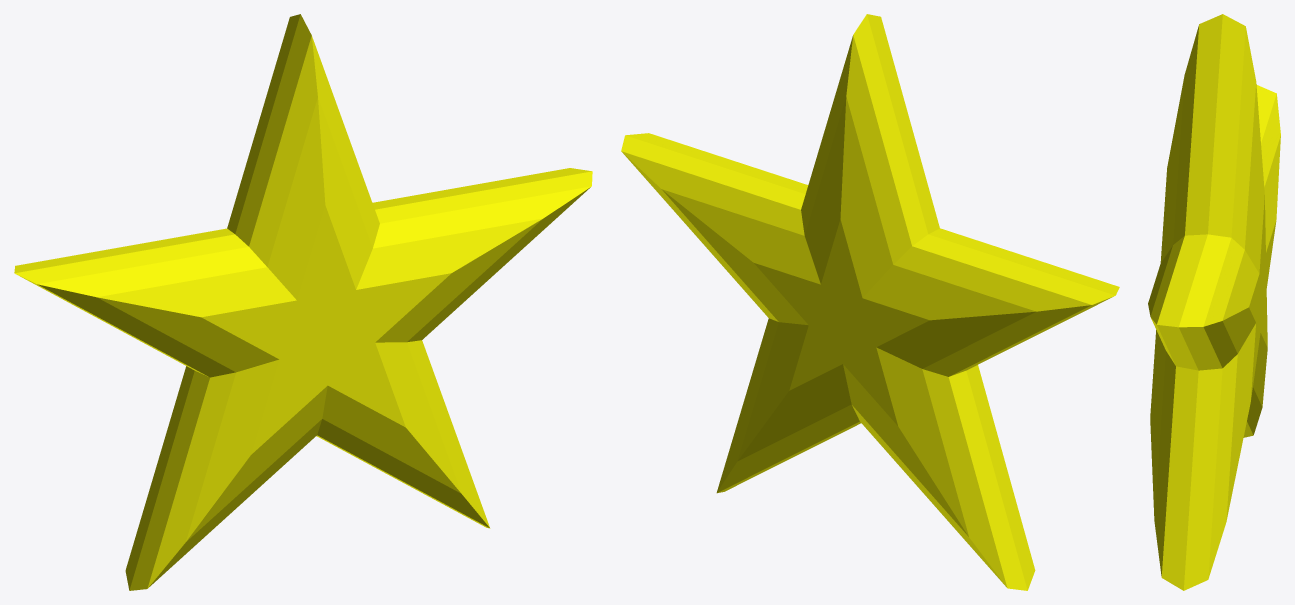
The model's file is Star.obj.
3 views of the same model, side by side, from view 1: azimuth 30°, elevation 25°; view 2: azimuth 150°, elevation 25°; view 3: azimuth 270°, elevation 25° (orthographic). The views are drawn at different scales.
Visible parts, largest first — view 1: Cylinder_Cylinder.001; view 2: Cylinder_Cylinder.001; view 3: Cylinder_Cylinder.001.
Part boxes in pixels (<box>): Cylinder_Cylinder.001: <box>14,14,592,590</box>; Cylinder_Cylinder.001: <box>621,14,1119,590</box>; Cylinder_Cylinder.001: <box>1148,14,1280,590</box>.
Size of the model in its own units: 1.96 by 1.89 by 0.4522.
